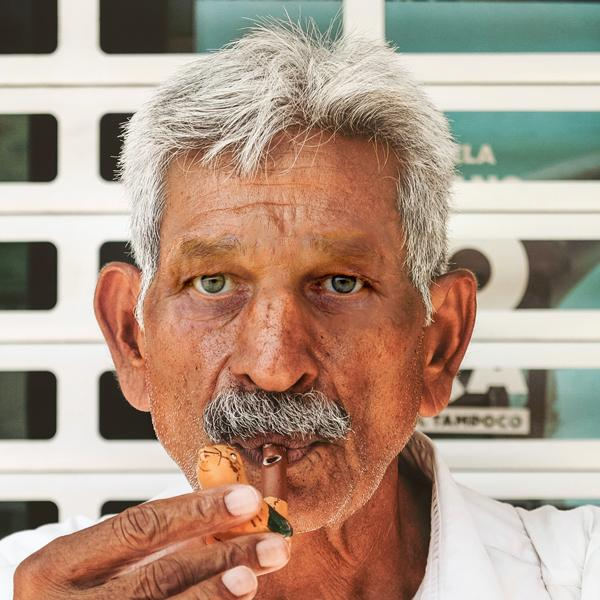Eyes: (174, 263, 255, 306), (306, 262, 382, 306)
